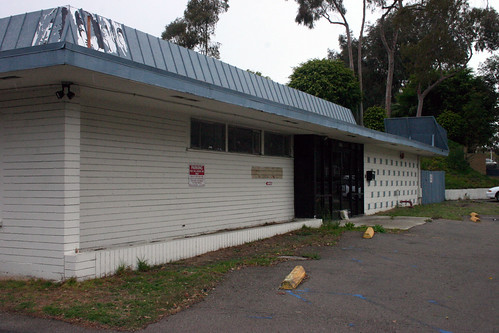building: (1, 19, 461, 306)
tree: (385, 1, 499, 115), (279, 1, 377, 114), (161, 1, 233, 58)
